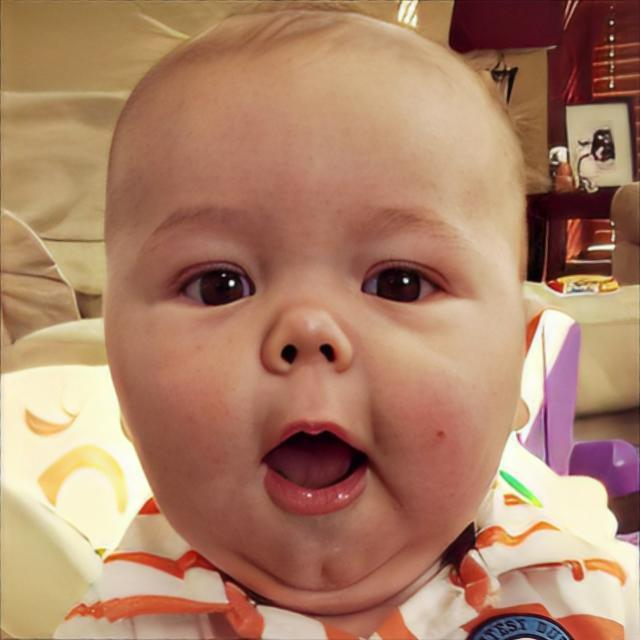surprise: (100, 2, 526, 616)
